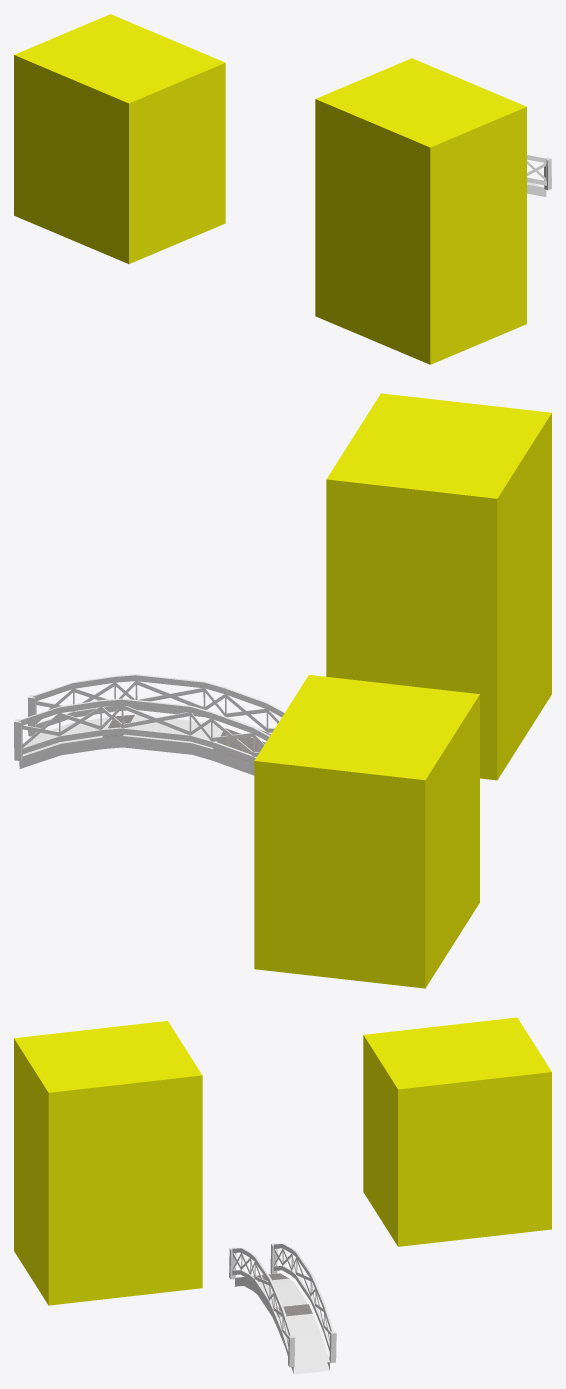
Rendered from DesignTwo_Plan.fbx.
The picture shows the model from 3 angles, top to bottom: view 1: azimuth 30°, elevation 25°; view 2: azimuth 150°, elevation 25°; view 3: azimuth 270°, elevation 25°; orthographic projection. The views are drawn at different scales.
Parts seen in each view (by area): view 1: Model, Component_1_1; view 2: Model, Component_1_1; view 3: Model, Component_1_1.
Part boxes in pixels (x1=…): Model: x1=14, y1=14, x2=526, y2=364; Component_1_1: x1=527, y1=155, x2=551, y2=196; Model: x1=254, y1=393, x2=551, y2=988; Component_1_1: x1=14, y1=674, x2=284, y2=775; Model: x1=14, y1=1017, x2=551, y2=1305; Component_1_1: x1=229, y1=1243, x2=336, y2=1374.
Bounding box in the file's own units: 95.09 × 46.96 × 107.
